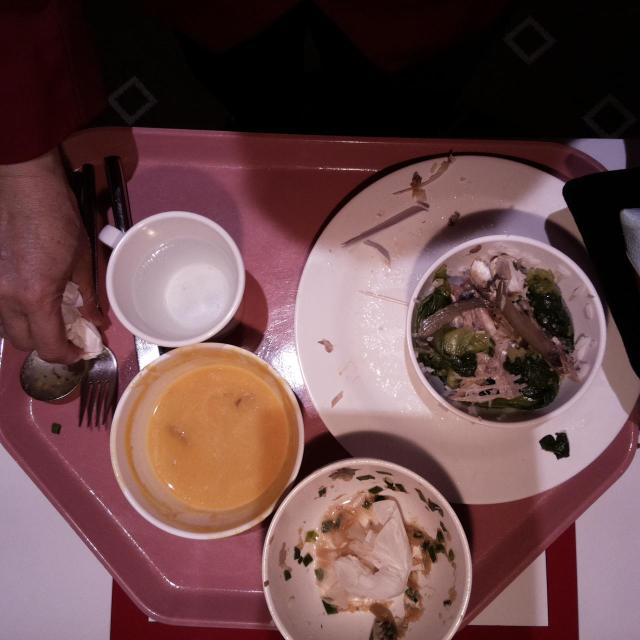Bone-fish: (451, 343, 527, 405)
Vegetable: (416, 291, 492, 377), (494, 354, 560, 411), (524, 270, 574, 342)
